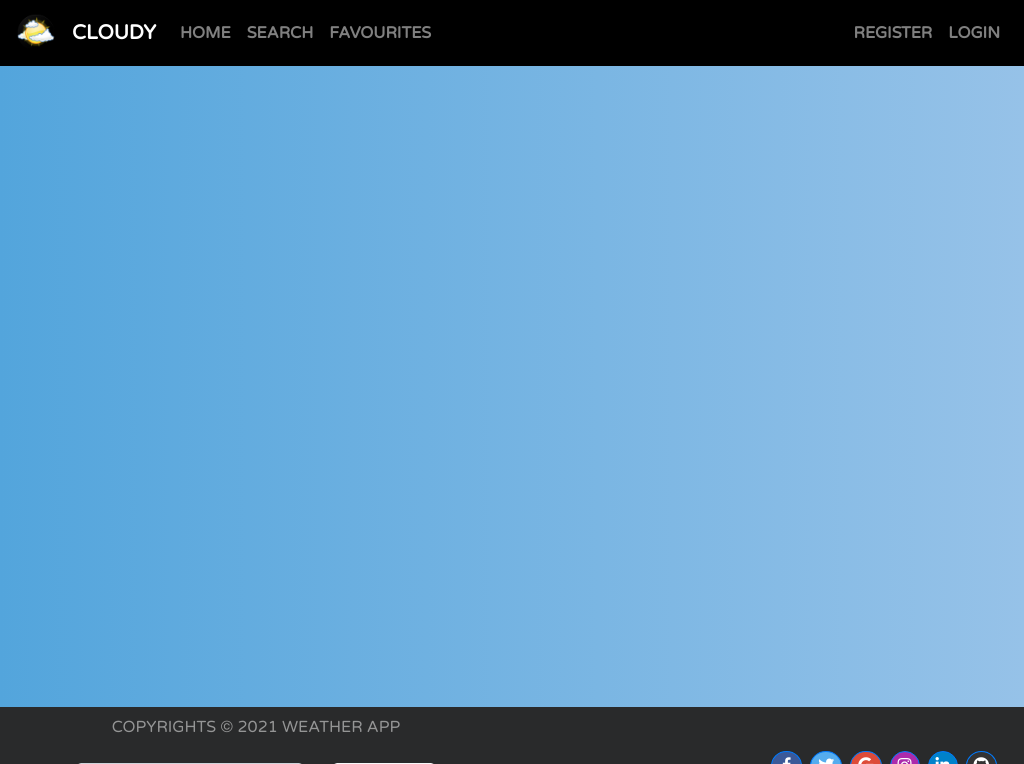
Scenario: Check working of Search page › contains "weather search"
Click the link with test id "search-link" at (281, 33), box [247, 23, 314, 43]
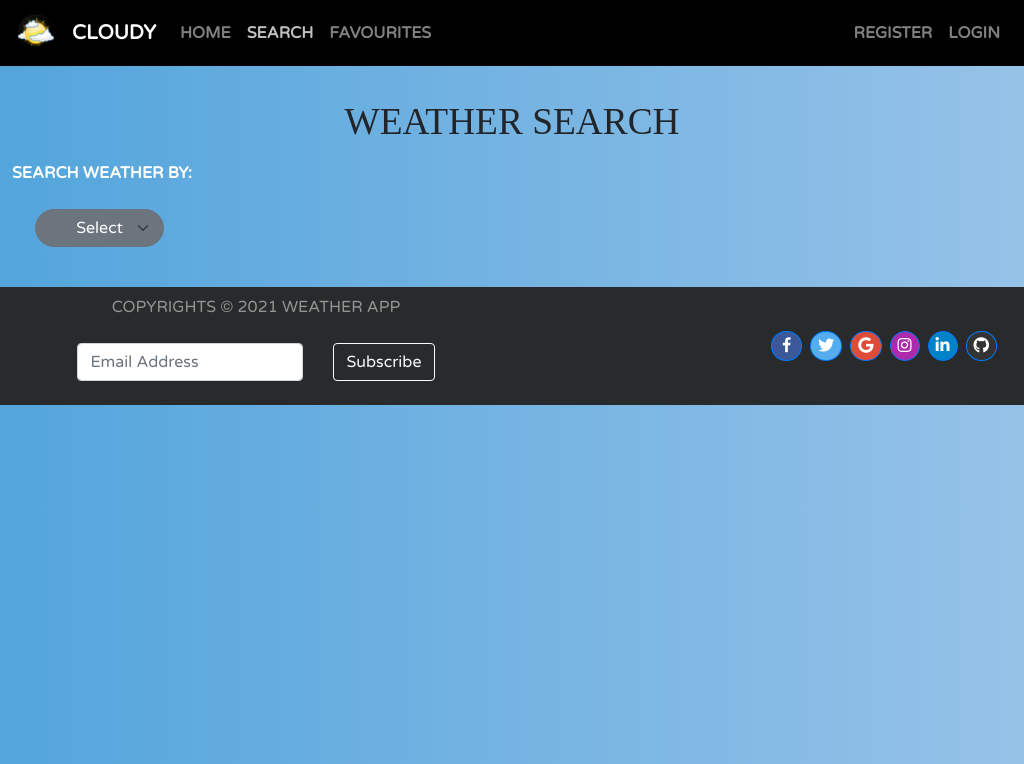
Now the heading with id "weather-text" reads "Weather Search", box [344, 101, 679, 142]
